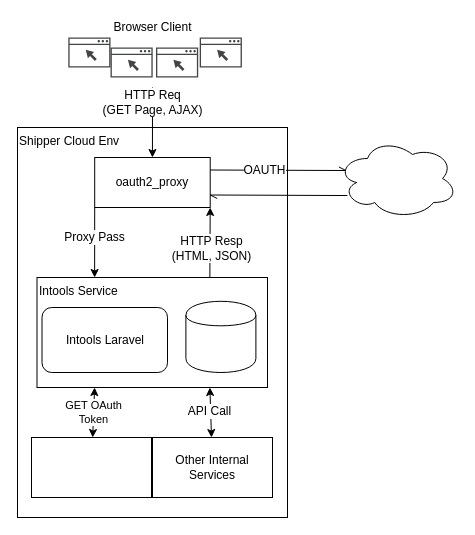
This 475x535 diagram has some shape labels left out. Here are the shapes that lost their labels. From the top down, the centre of each, then its label:
At point 397,178: "Google API".
At point 220,336: "intools_db".
At point 91,467: "AccountSvc".
